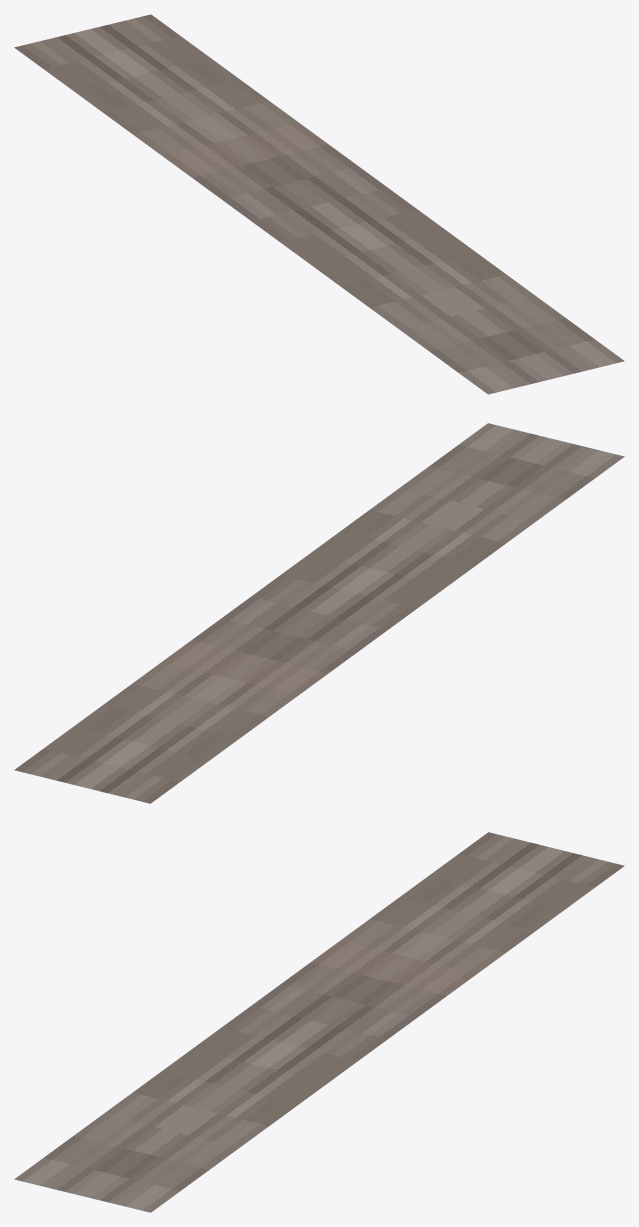
The model's file is pir_m_bld_frt_innerWall_300_footprint.fbx.
3 renders of one model, top to bottom at view 1: azimuth 30°, elevation 25°; view 2: azimuth 150°, elevation 25°; view 3: azimuth 330°, elevation 25°, orthographic.
Parts seen in each view (by area): view 1: footprint; view 2: footprint; view 3: footprint.
Part boxes in pixels (x1,y1,x2,y2): footprint: (14, 14, 624, 394); footprint: (14, 423, 624, 803); footprint: (14, 832, 624, 1212).
Size of the model in its own units: 5000 by 0.00489 by 30021.
1 material, 1 textured.
